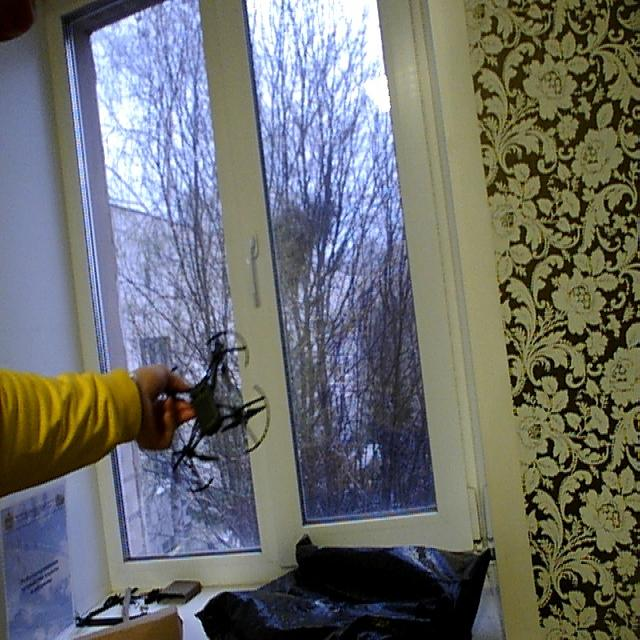drone: (151, 313, 274, 498)
